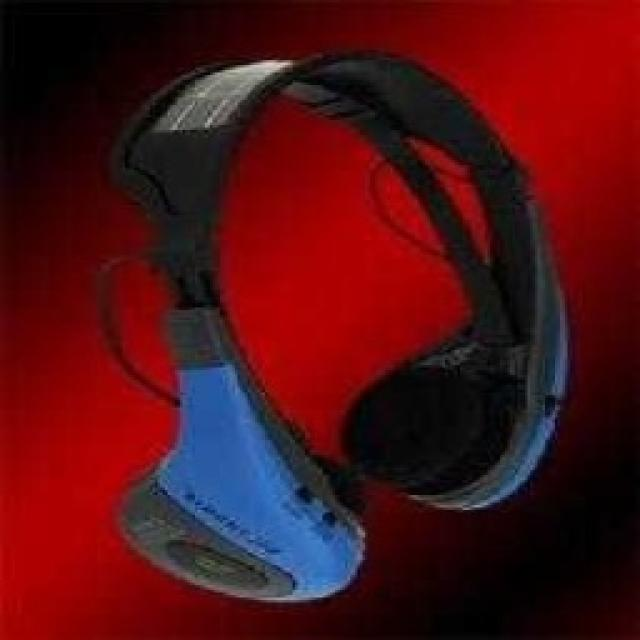kulaklik: (98, 58, 573, 606)
